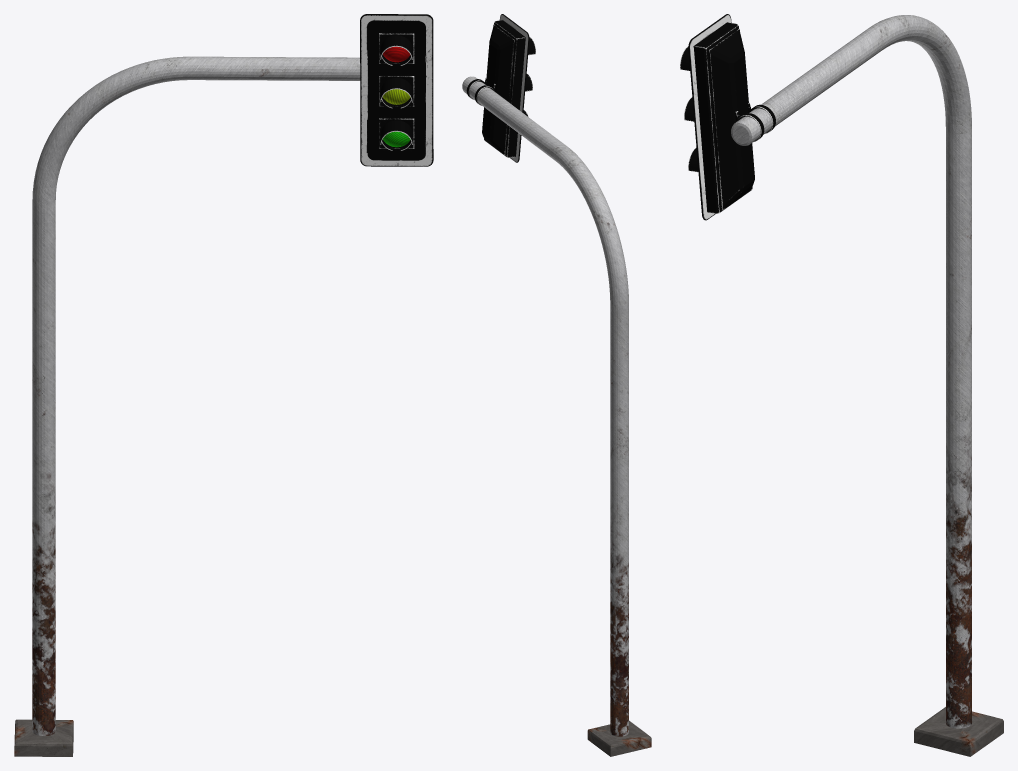
The model's file is stoplight_from_chile_decayed.glb.
3 views of the same model, side by side, from view 1: azimuth 30°, elevation 25°; view 2: azimuth 150°, elevation 25°; view 3: azimuth 270°, elevation 25° (orthographic). The views are drawn at different scales.
Parts seen in each view (by area): view 1: Model; view 2: Model; view 3: Model.
Boxes of the visible parts, <box> form: Model: <box>14,14,433,756</box>; Model: <box>462,14,651,756</box>; Model: <box>680,14,1003,756</box>.
Size of the model in its own units: 254 by 567 by 197.
7 materials, 7 textured.
